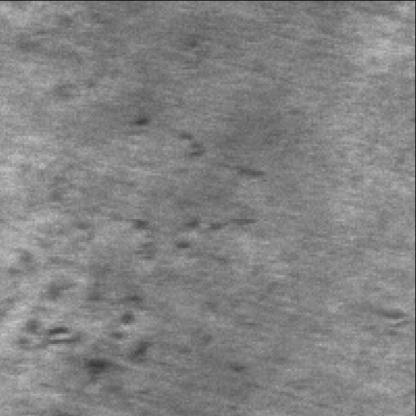rolled-in_scale: (131, 117, 254, 266), (6, 262, 148, 379)
